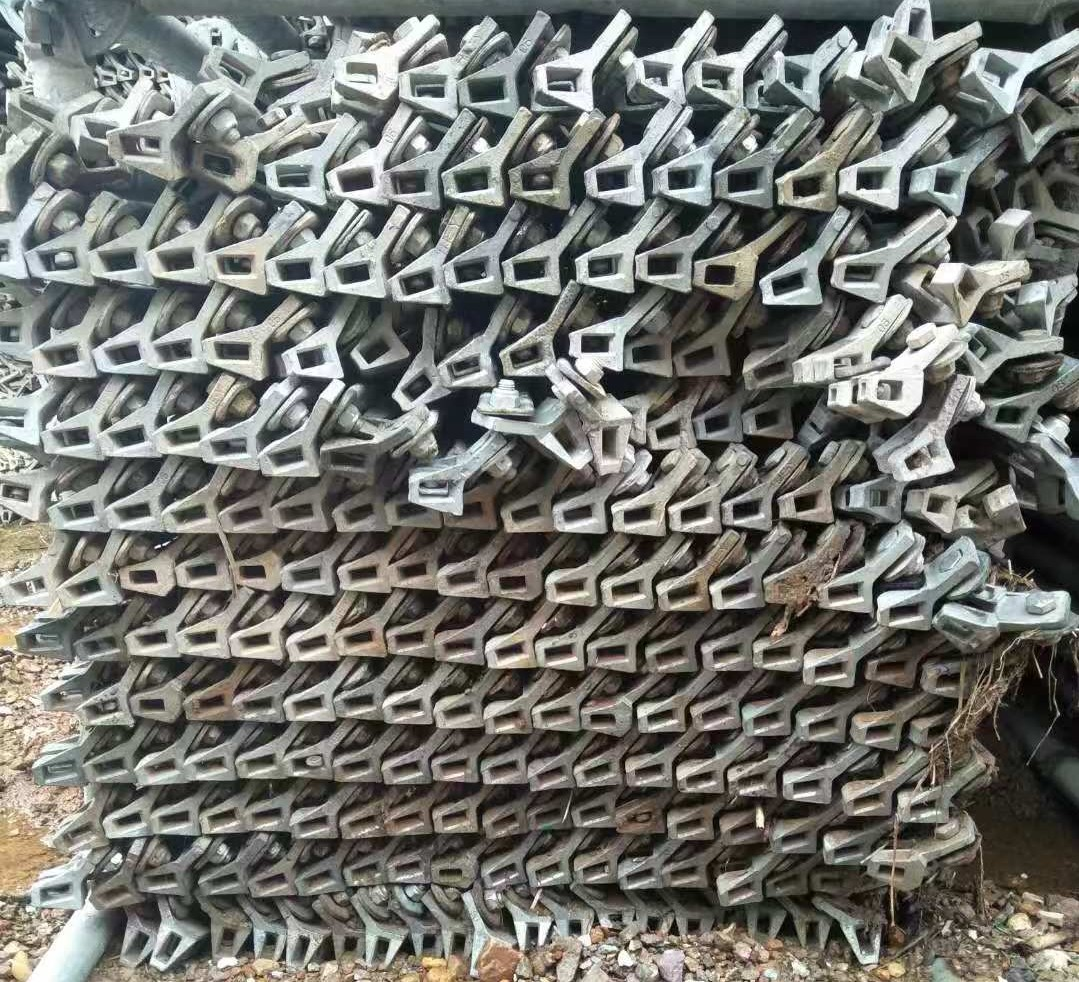sigma_steel: (103, 122, 172, 182), (964, 47, 1019, 118), (189, 139, 259, 193), (1012, 85, 1057, 163), (3, 88, 69, 140), (205, 44, 264, 102), (205, 241, 266, 297), (533, 59, 596, 112), (837, 160, 901, 212), (766, 51, 820, 112), (696, 251, 758, 304), (31, 334, 98, 383), (776, 161, 839, 213), (325, 252, 388, 304), (541, 410, 592, 473), (829, 252, 889, 305), (442, 158, 505, 208), (760, 262, 824, 311), (202, 331, 266, 380), (910, 160, 967, 215), (92, 335, 156, 383), (575, 244, 634, 296), (687, 53, 743, 107), (882, 30, 924, 102), (400, 67, 459, 118), (582, 160, 646, 207), (327, 157, 388, 206), (445, 246, 502, 298), (385, 161, 443, 212), (265, 157, 325, 206), (90, 239, 151, 287), (148, 237, 206, 287), (459, 69, 519, 117), (637, 246, 693, 297), (930, 609, 996, 652), (335, 56, 398, 101), (266, 250, 325, 298), (147, 333, 207, 380), (630, 54, 686, 104), (254, 439, 319, 482), (584, 417, 631, 476), (349, 330, 411, 374), (716, 163, 774, 210), (503, 250, 561, 297), (282, 337, 345, 380), (392, 366, 449, 412), (657, 159, 712, 206), (566, 329, 626, 372), (39, 423, 102, 463), (909, 484, 958, 535), (199, 431, 261, 471), (171, 554, 231, 595), (554, 494, 611, 537), (943, 264, 983, 324), (612, 495, 665, 540), (499, 336, 557, 377), (874, 593, 932, 634), (317, 442, 376, 482), (97, 424, 159, 462), (437, 348, 497, 387), (501, 494, 554, 538), (47, 495, 105, 535), (984, 397, 1031, 446), (816, 577, 872, 618), (653, 576, 710, 616), (269, 499, 332, 535), (840, 915, 885, 965), (2, 572, 58, 612), (722, 491, 774, 534), (668, 494, 721, 536), (544, 572, 601, 611), (149, 927, 196, 974), (154, 420, 210, 459), (709, 575, 765, 614), (332, 496, 384, 538), (488, 568, 545, 606), (205, 918, 251, 965), (57, 573, 115, 610), (601, 574, 654, 614), (115, 561, 172, 598), (446, 497, 500, 536), (850, 483, 901, 524), (740, 403, 796, 440), (105, 496, 161, 533), (1, 397, 40, 450), (160, 501, 219, 536), (675, 343, 732, 379), (15, 626, 72, 662), (230, 625, 284, 663), (333, 557, 388, 594), (384, 497, 442, 532), (782, 487, 834, 526), (218, 500, 270, 539), (176, 623, 229, 661), (868, 854, 925, 889), (998, 210, 1037, 261), (578, 701, 629, 740), (483, 635, 538, 671), (1012, 168, 1050, 220), (692, 404, 744, 442), (624, 339, 674, 378), (1, 472, 40, 522), (639, 642, 698, 675), (281, 561, 335, 597), (281, 689, 336, 724), (436, 565, 489, 601), (231, 688, 285, 723), (115, 923, 156, 969), (285, 922, 326, 968), (132, 751, 184, 787), (647, 411, 696, 449), (921, 661, 970, 699), (583, 639, 636, 674), (229, 558, 281, 593), (1, 308, 34, 363), (28, 878, 83, 911), (364, 925, 405, 969), (701, 637, 751, 673), (783, 769, 833, 805), (666, 807, 716, 843), (745, 356, 796, 391), (286, 629, 337, 664), (129, 689, 180, 724), (33, 753, 84, 788), (94, 879, 145, 914), (625, 756, 675, 791), (843, 784, 893, 819), (54, 816, 104, 851), (854, 714, 900, 752), (801, 655, 857, 686), (183, 689, 234, 723), (431, 698, 482, 732), (387, 625, 435, 661), (750, 639, 802, 672), (137, 867, 189, 900), (387, 557, 436, 592), (743, 702, 792, 737), (328, 752, 383, 783), (530, 700, 580, 734), (75, 632, 128, 664), (81, 751, 134, 783), (727, 766, 778, 799), (289, 809, 340, 842), (866, 653, 914, 688), (794, 909, 832, 953), (335, 688, 384, 722), (185, 748, 234, 782), (337, 808, 386, 842), (251, 917, 288, 962), (385, 691, 431, 727), (964, 205, 995, 258), (482, 702, 530, 736), (690, 701, 741, 733), (234, 750, 286, 781), (104, 804, 150, 839), (37, 679, 87, 711), (437, 632, 484, 666), (128, 624, 176, 657), (432, 752, 480, 785), (479, 807, 528, 839), (538, 638, 584, 672), (716, 876, 763, 909), (381, 752, 431, 783), (900, 792, 948, 824), (385, 853, 430, 887), (570, 800, 616, 833), (772, 825, 818, 858), (148, 808, 200, 837), (480, 756, 527, 788), (336, 627, 386, 657), (719, 815, 767, 846), (678, 764, 723, 797), (527, 858, 572, 891), (244, 871, 297, 899), (636, 705, 685, 735), (825, 836, 872, 867), (387, 806, 431, 839), (514, 912, 551, 951), (801, 711, 846, 743), (247, 801, 293, 832), (342, 855, 388, 886), (764, 871, 810, 902), (527, 759, 574, 789), (431, 860, 478, 890), (555, 906, 593, 943), (485, 857, 526, 891), (297, 867, 345, 896), (576, 757, 622, 787), (810, 869, 856, 899), (908, 715, 951, 747), (435, 804, 478, 836), (199, 870, 249, 897), (620, 860, 662, 892), (634, 902, 676, 934), (663, 859, 706, 890), (200, 805, 245, 834), (750, 905, 785, 942), (575, 857, 618, 887), (594, 900, 635, 931), (439, 920, 471, 959), (525, 806, 571, 833), (407, 922, 439, 959), (676, 907, 714, 937), (332, 926, 364, 960)
sigma_steel_blocked: (25, 238, 93, 291), (509, 159, 571, 212), (886, 435, 955, 482), (386, 258, 448, 309), (862, 371, 924, 419), (406, 469, 466, 517), (75, 690, 129, 728), (614, 800, 667, 837), (283, 746, 333, 783)
